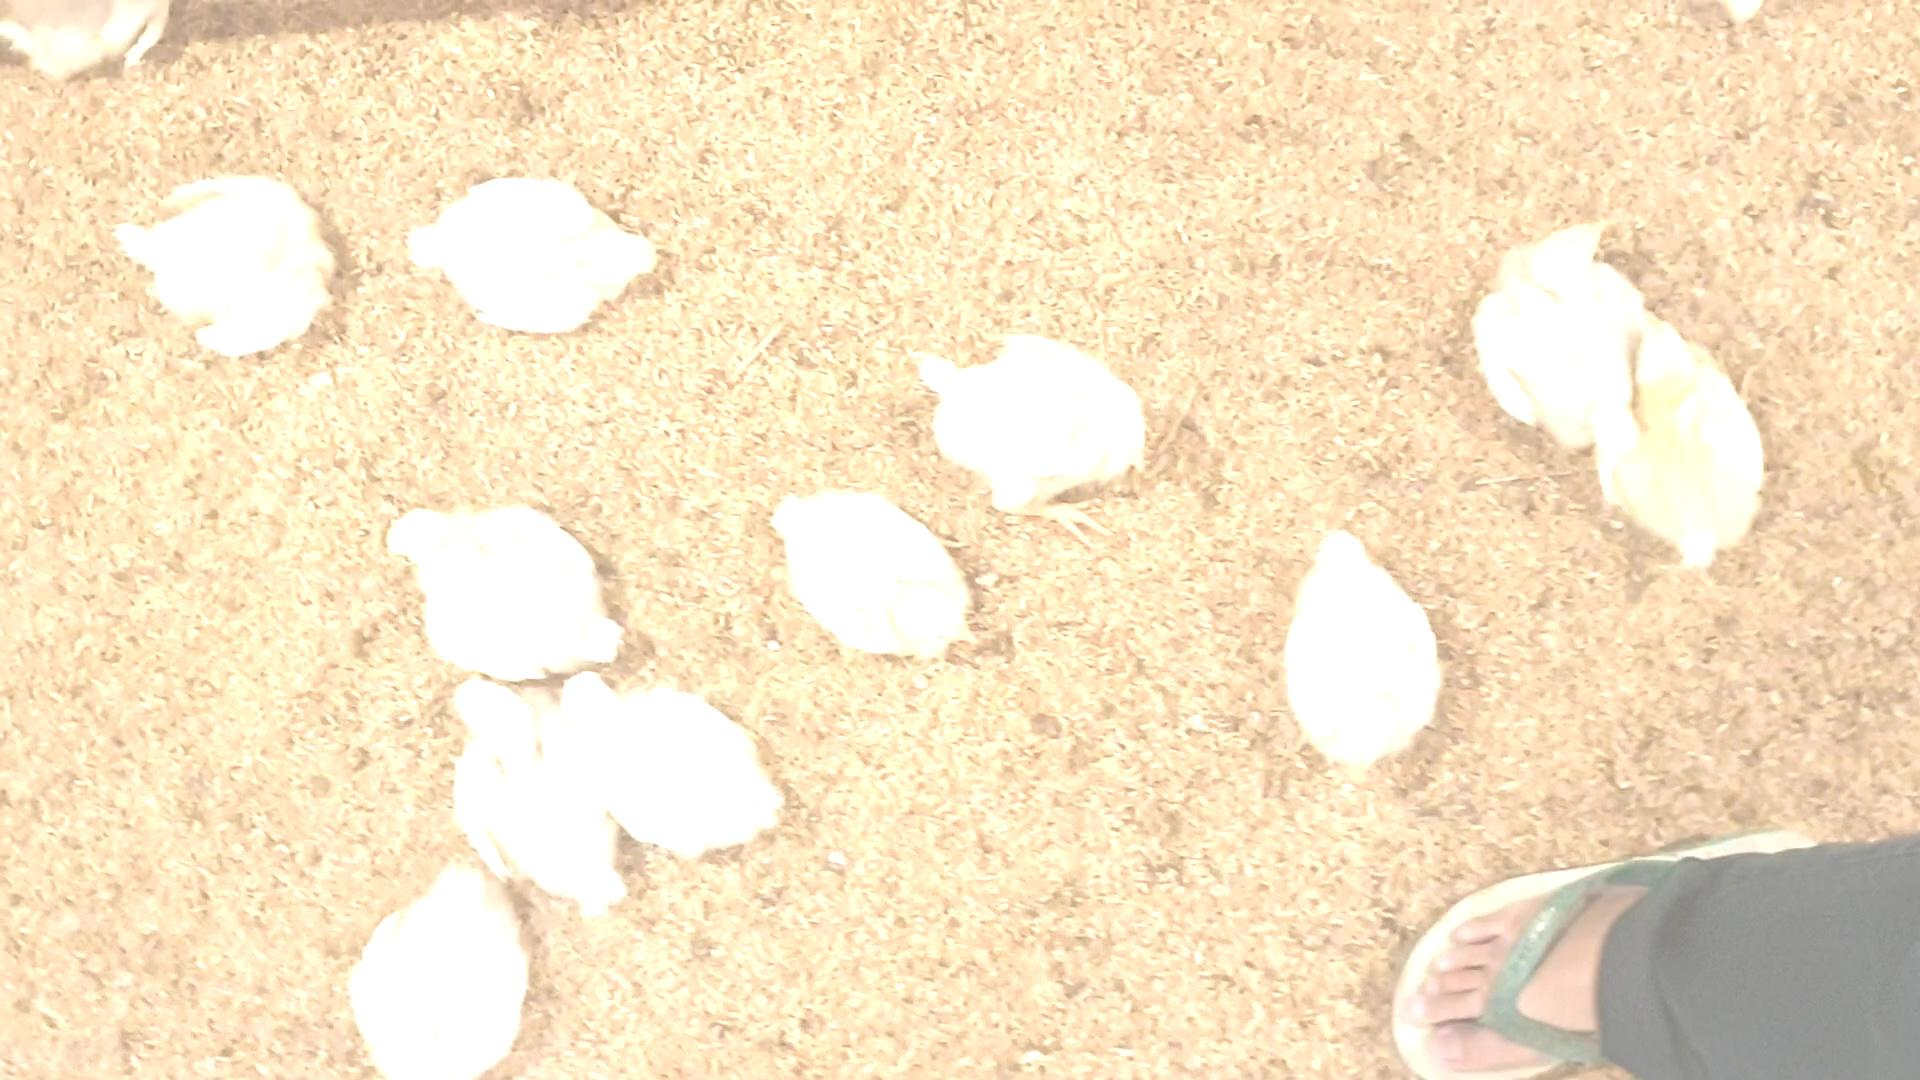Pollos: (1275, 525, 1447, 782), (446, 669, 622, 914), (413, 171, 661, 340), (394, 498, 629, 666), (1604, 309, 1764, 553), (905, 338, 1146, 500), (127, 182, 345, 359), (356, 855, 527, 1080), (572, 665, 781, 837), (1476, 214, 1622, 447), (783, 487, 980, 659)
